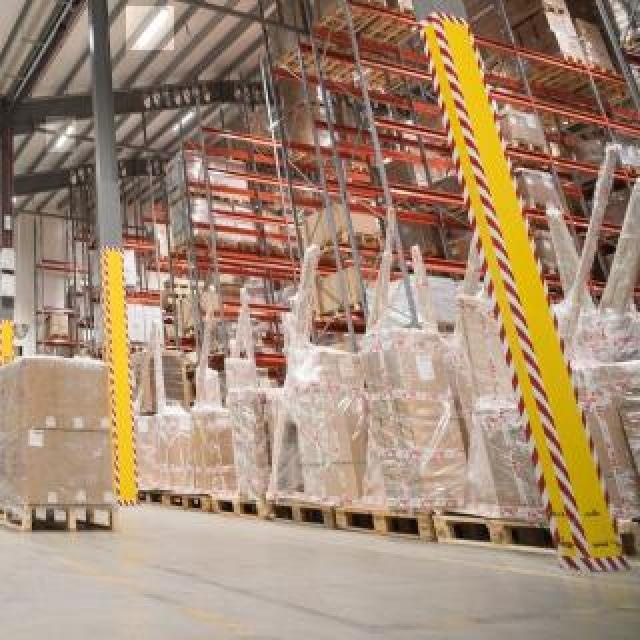fluorescent tube: (124, 0, 175, 58), (45, 113, 82, 147)
